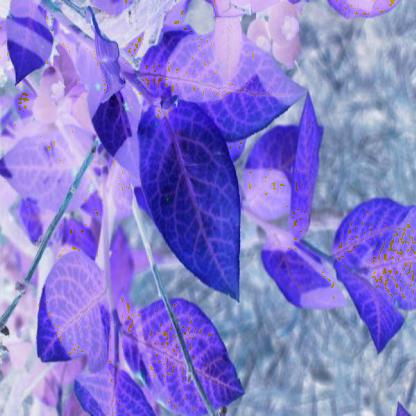Blueberry leaf: (137, 94, 250, 310)
